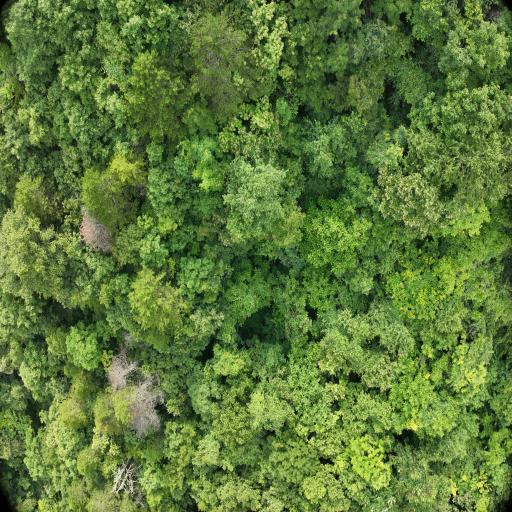dead-tree: (84, 221, 109, 247), (110, 364, 129, 388), (140, 391, 152, 428), (114, 467, 130, 491)
